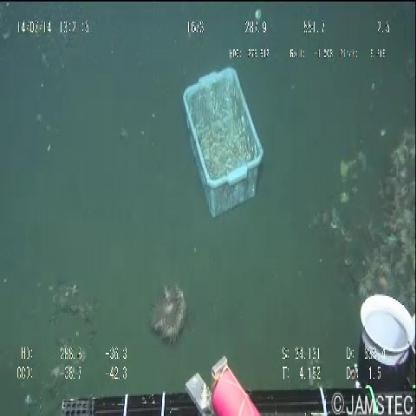Rov: (50, 277, 416, 416)
Rác: (170, 51, 270, 228)
